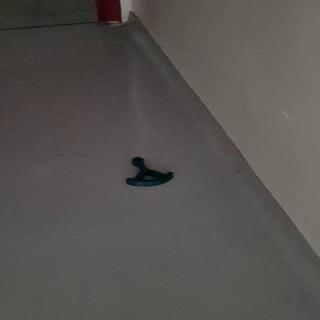haptic: (125, 156, 175, 188)
